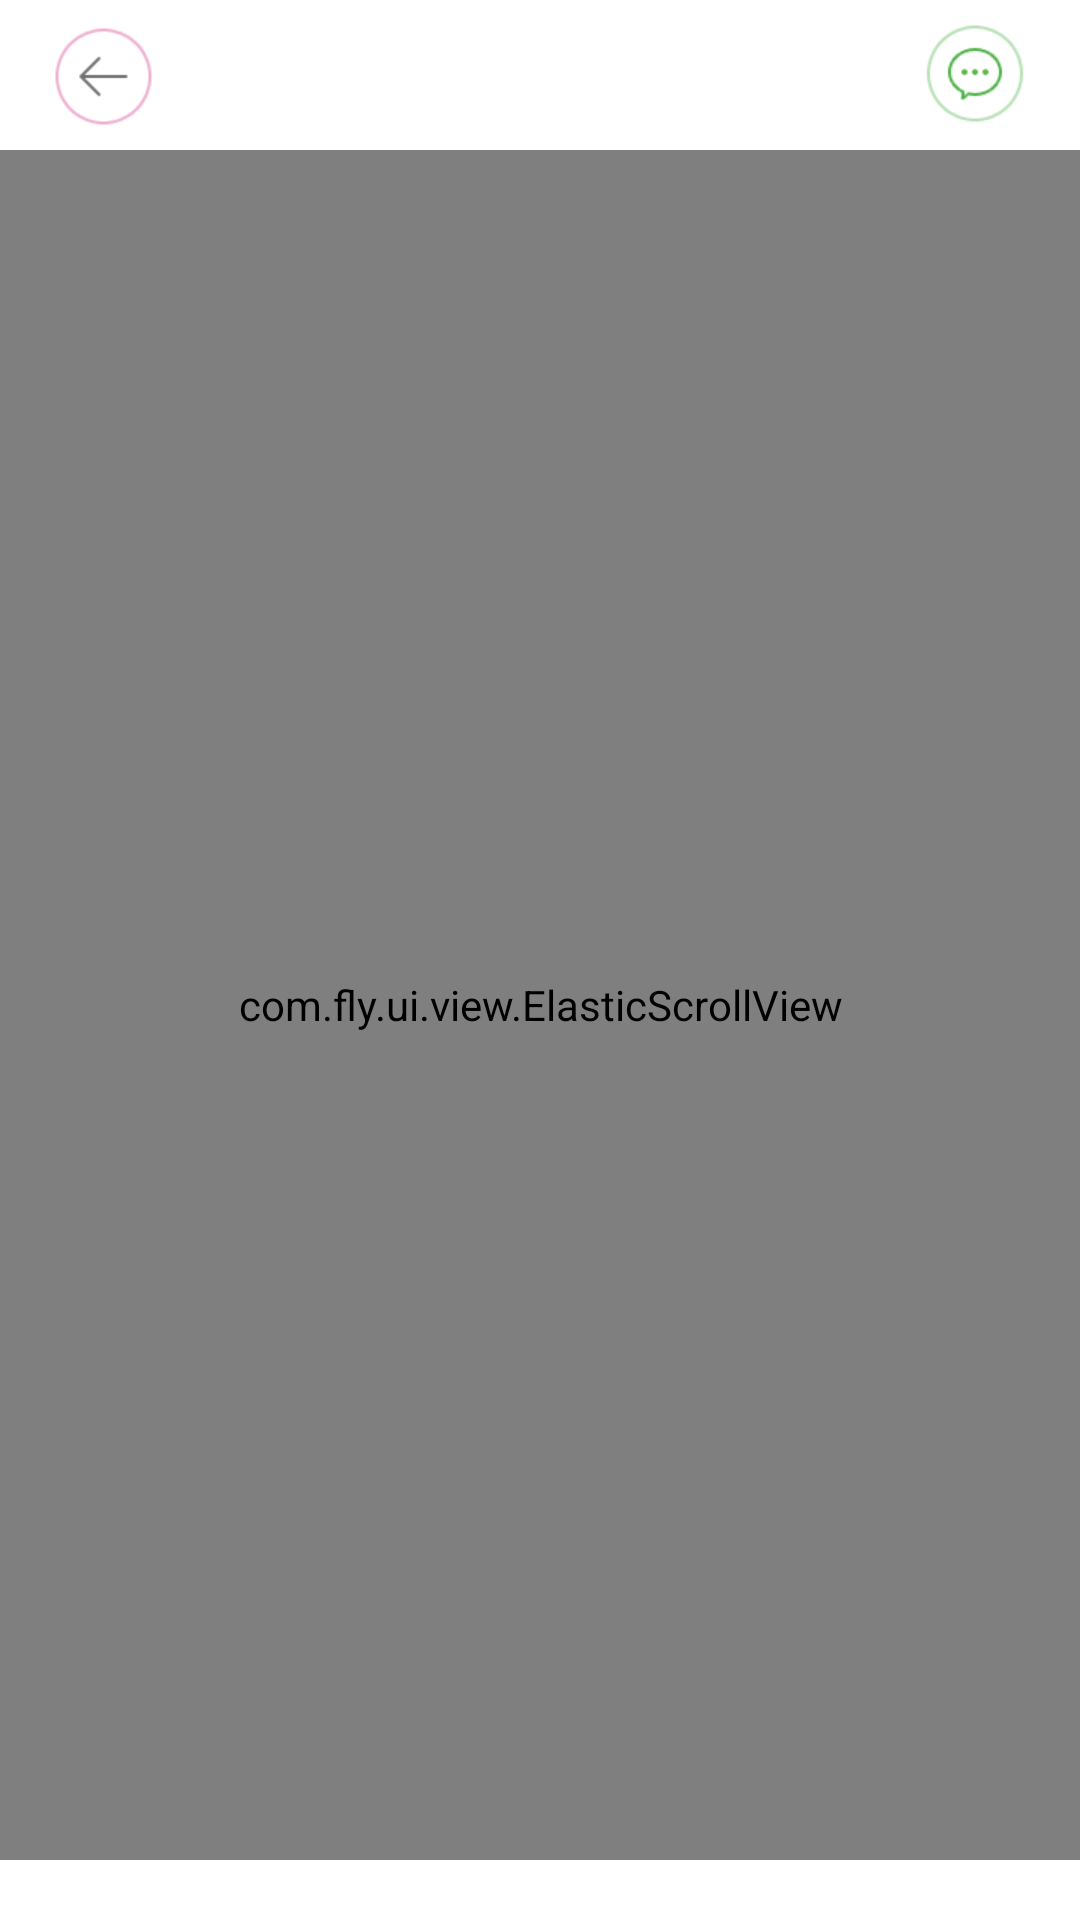

Named icons in this screenshot (1080x1920) and their centers, (x,y):
back: (103,76)
